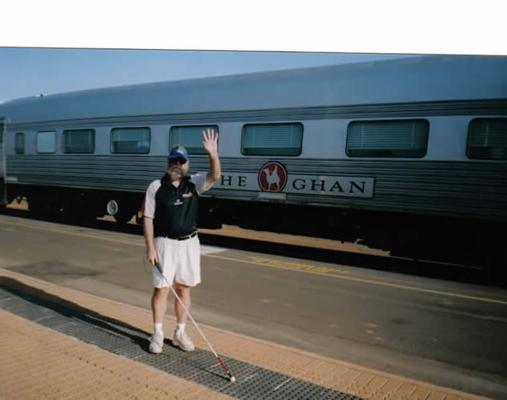person: (143, 129, 222, 352)
